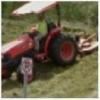tractors: (3, 0, 98, 87)
